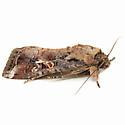army worm adult: (2, 38, 125, 94)
